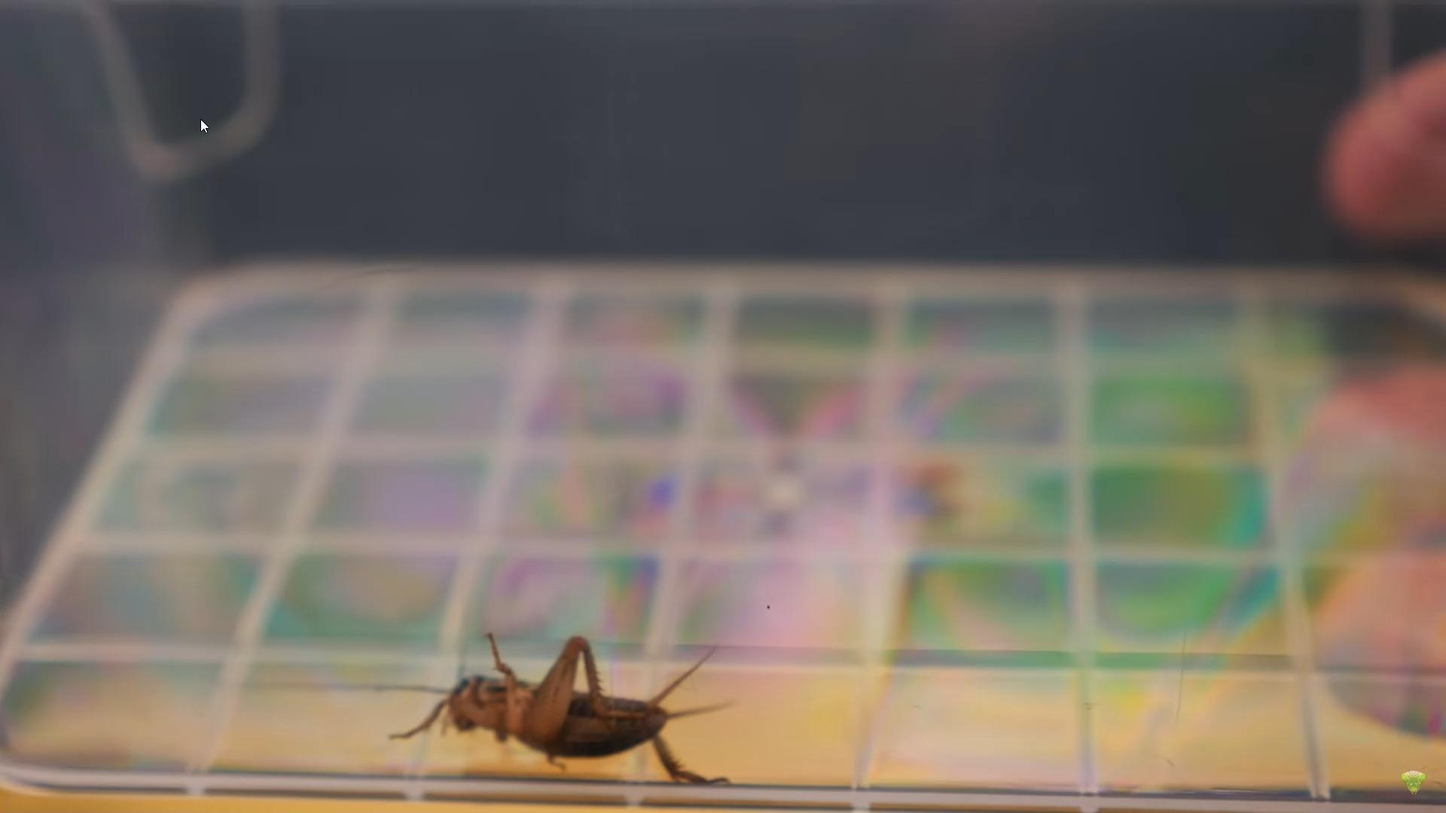cockroach: (374, 636, 733, 778)
